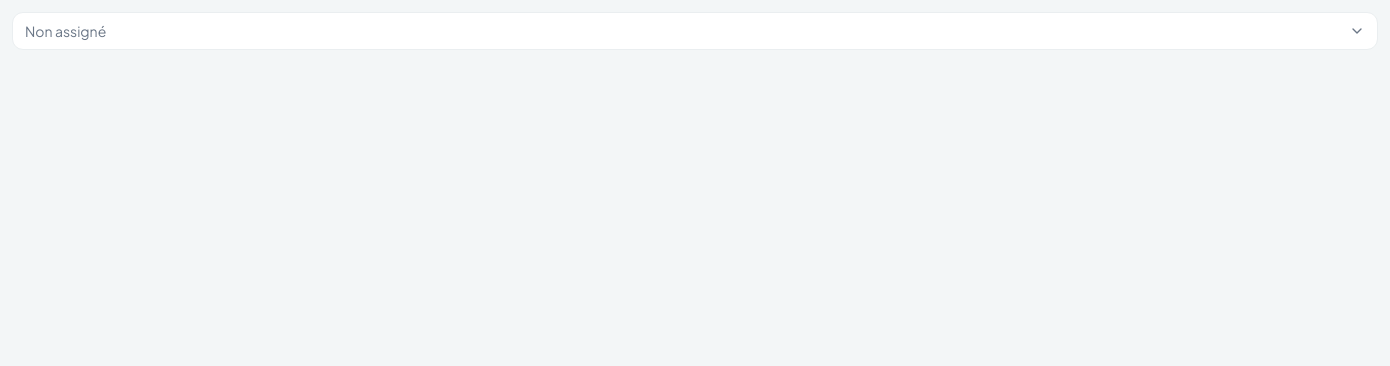
Test: SearchableSelect — recherche au numéro de département › le dit quand aucun collaborateur ne couvre le numéro tapé
Click the button with aria-label "choisir le collaborateur" at (66, 31), box [12,12,1378,50]
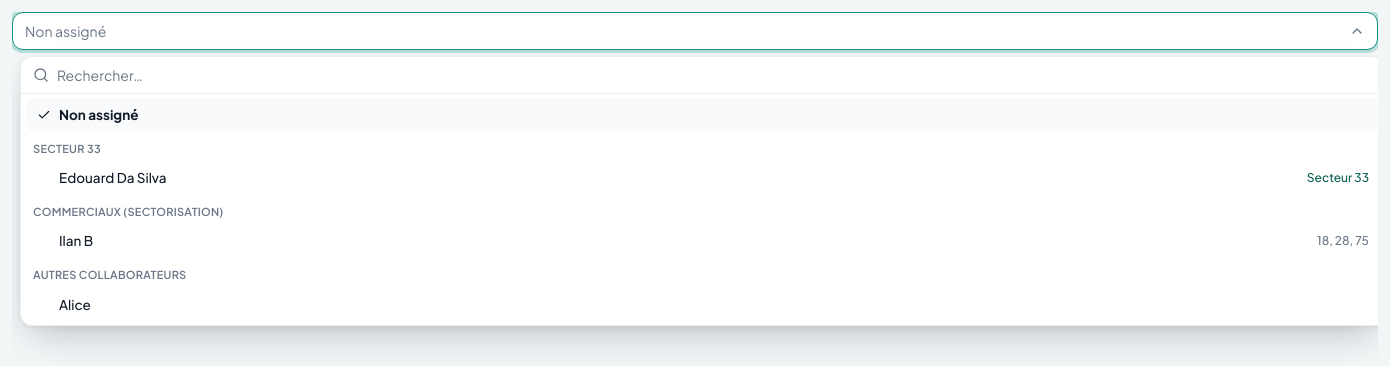
Type "97" into the dropdown at (715, 75), box [57,65,1373,85]
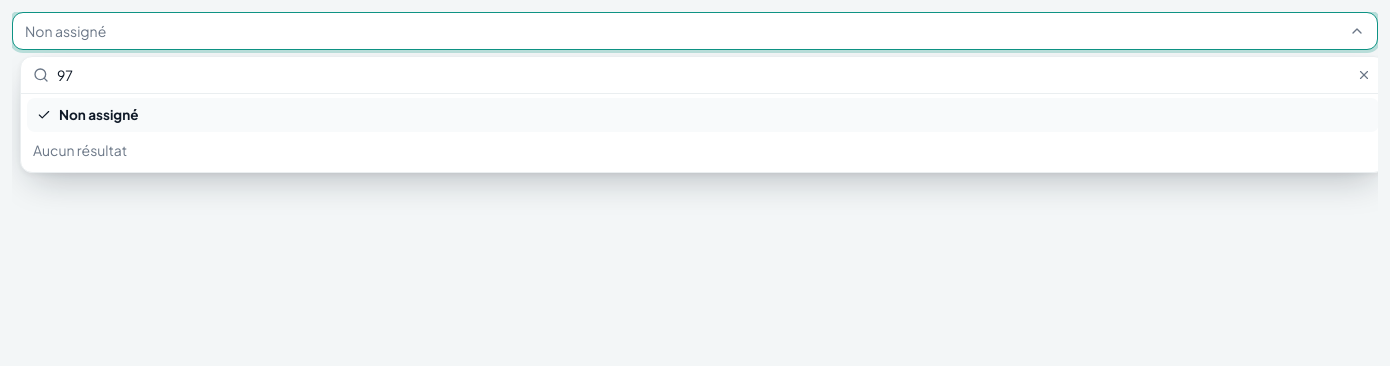
Check: the list item "Aucun résultat" is shown, box [33,141,127,159]
